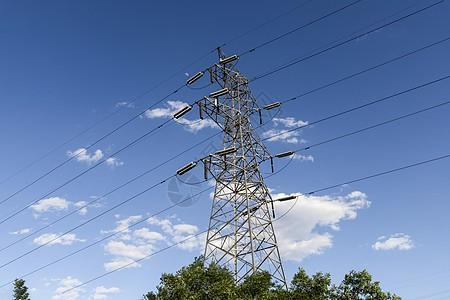power_tower: (178, 43, 313, 289)
